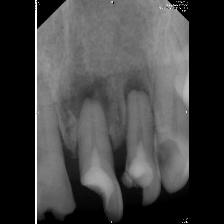apical_lesion: (64, 60, 124, 224), (115, 57, 162, 208)
